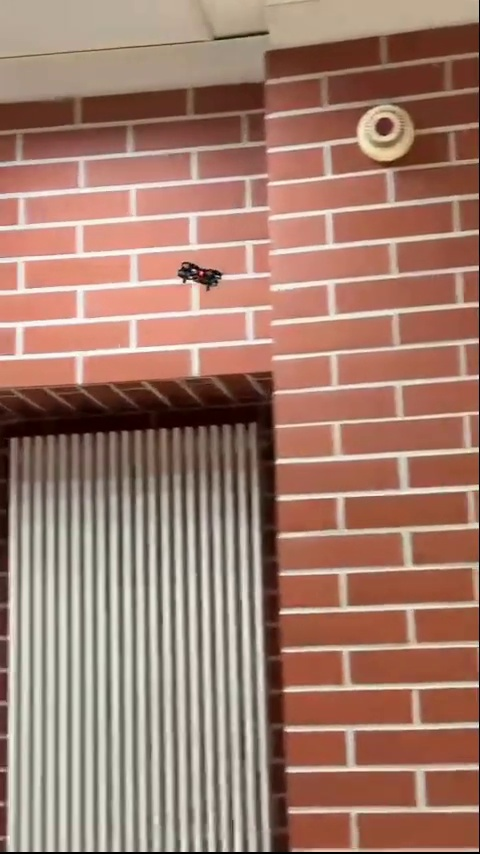drone: (175, 260, 227, 292)
